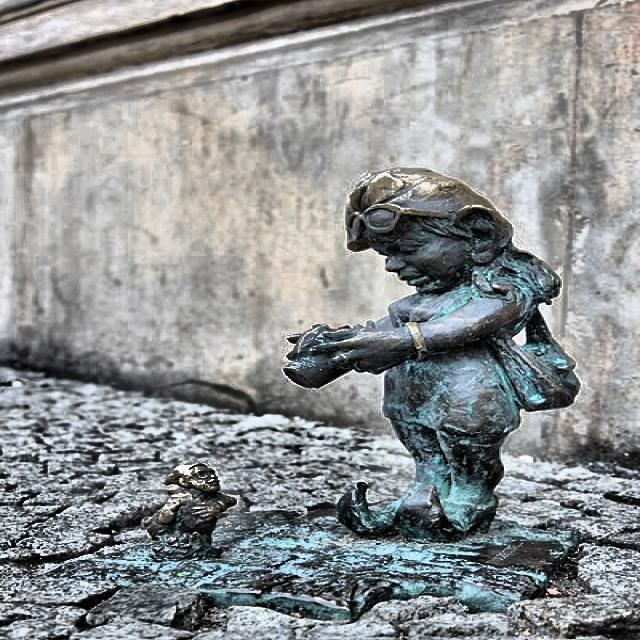Troszka i Adoratorek: (58, 170, 584, 625)
